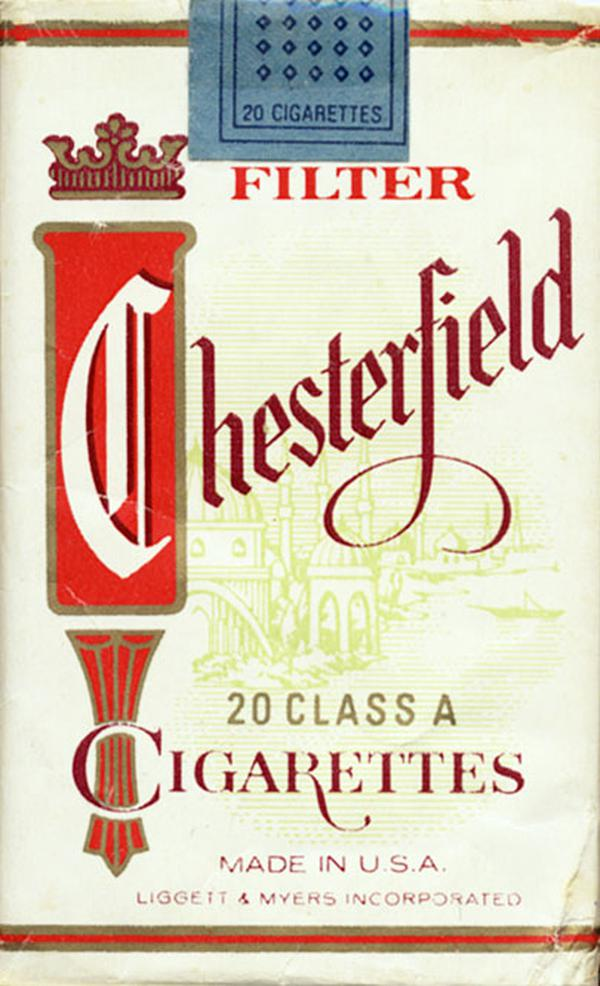chesterfield_red: (1, 1, 598, 985)
